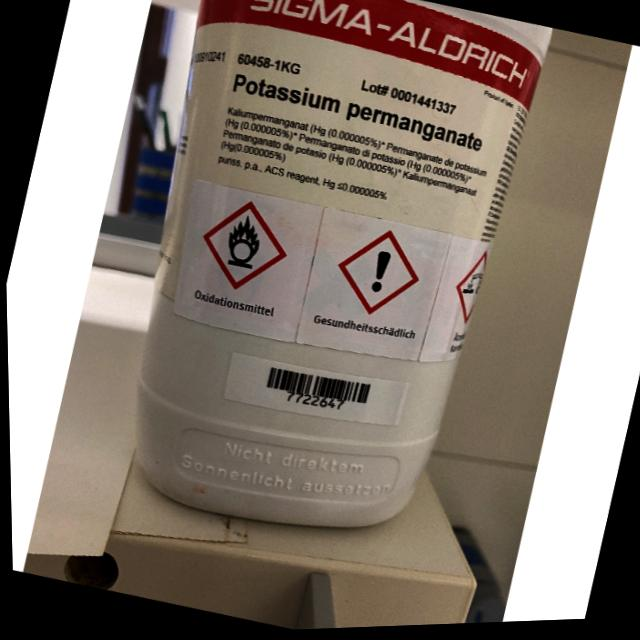corrosive: (460, 274, 482, 300)
health-ozone layer hazard: (368, 252, 390, 296)
oxidising: (221, 213, 265, 271)
